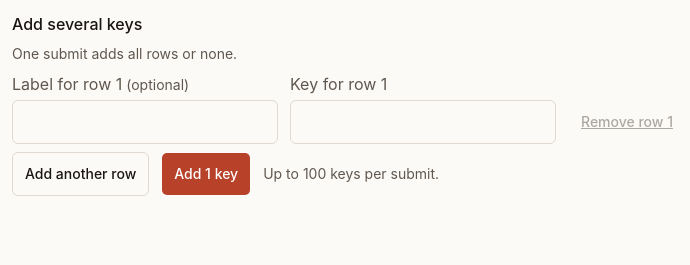
Scenario: BulkAddKeysForm › sends nothing when a row carries an empty key
In the field labelled "Label for row 1": (145, 122) [12, 100, 278, 144], type "First"
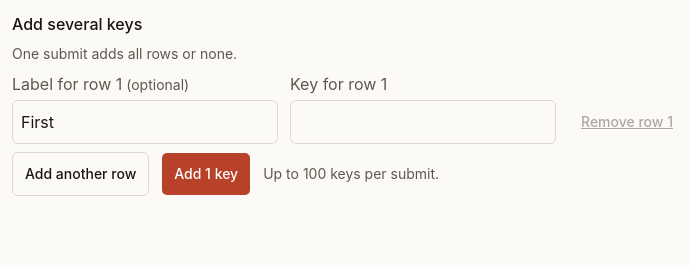
Click the button "Add 1 key": (206, 174) [161, 152, 251, 196]
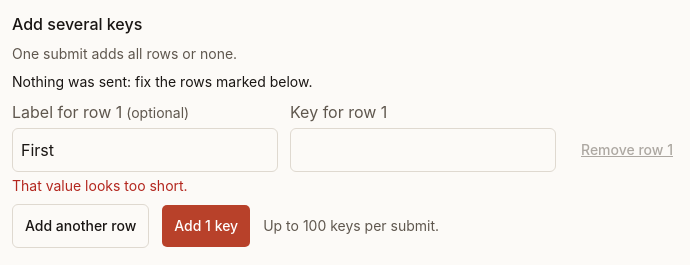
Expected: the text "Nothing was sent: fix the rows marked below." is shown, [12, 73, 312, 90]
